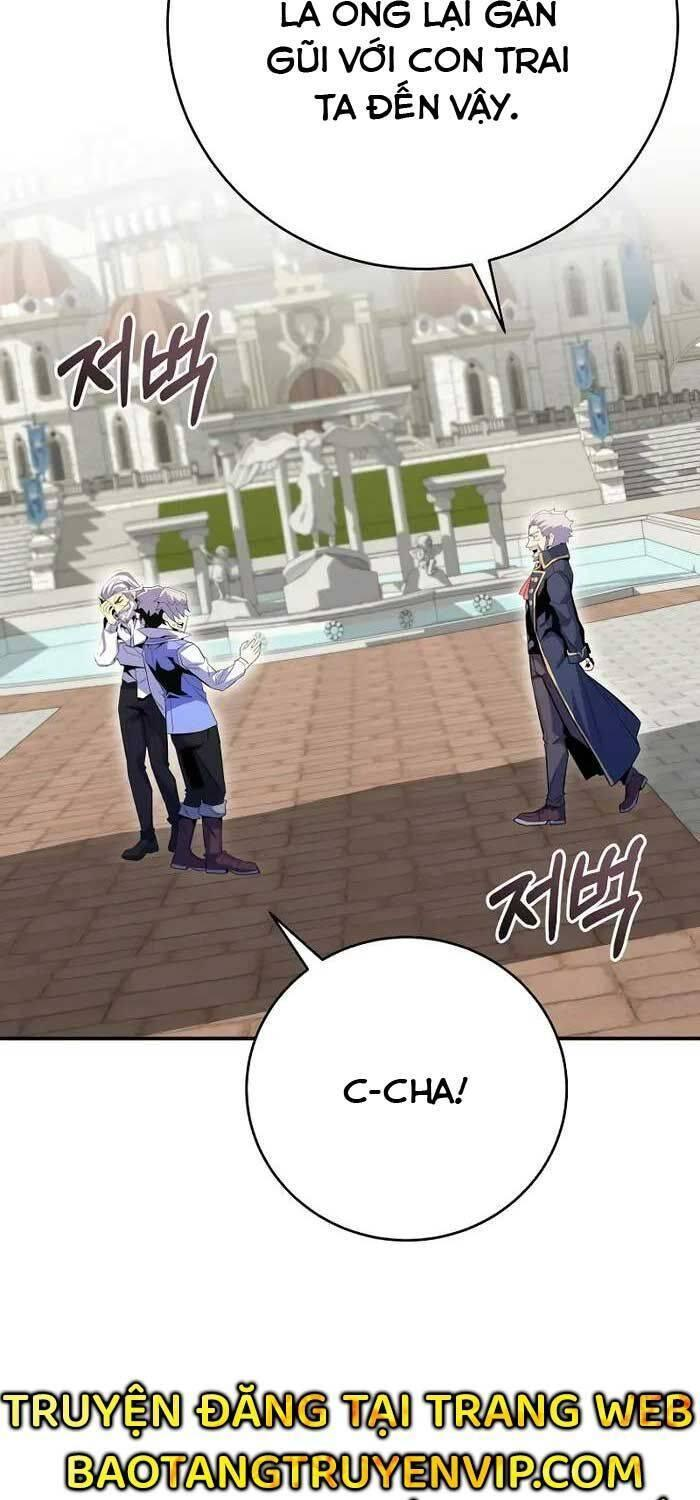quangcao: (0, 1368, 700, 1500)
